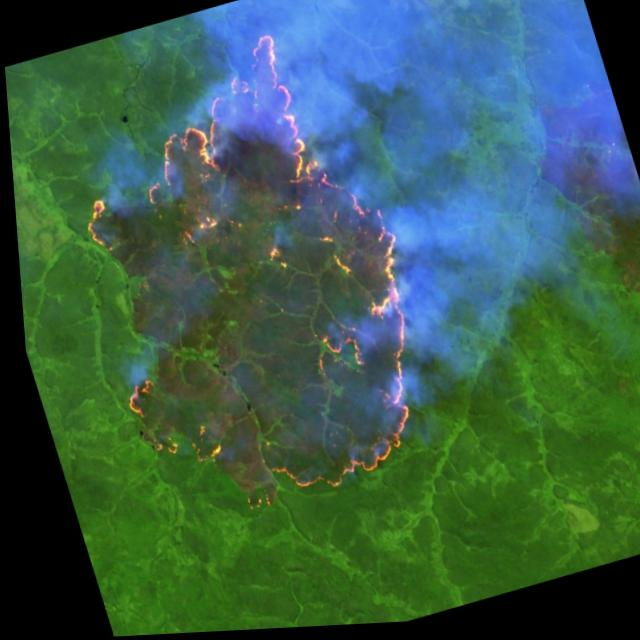fire: (23, 3, 464, 553)
